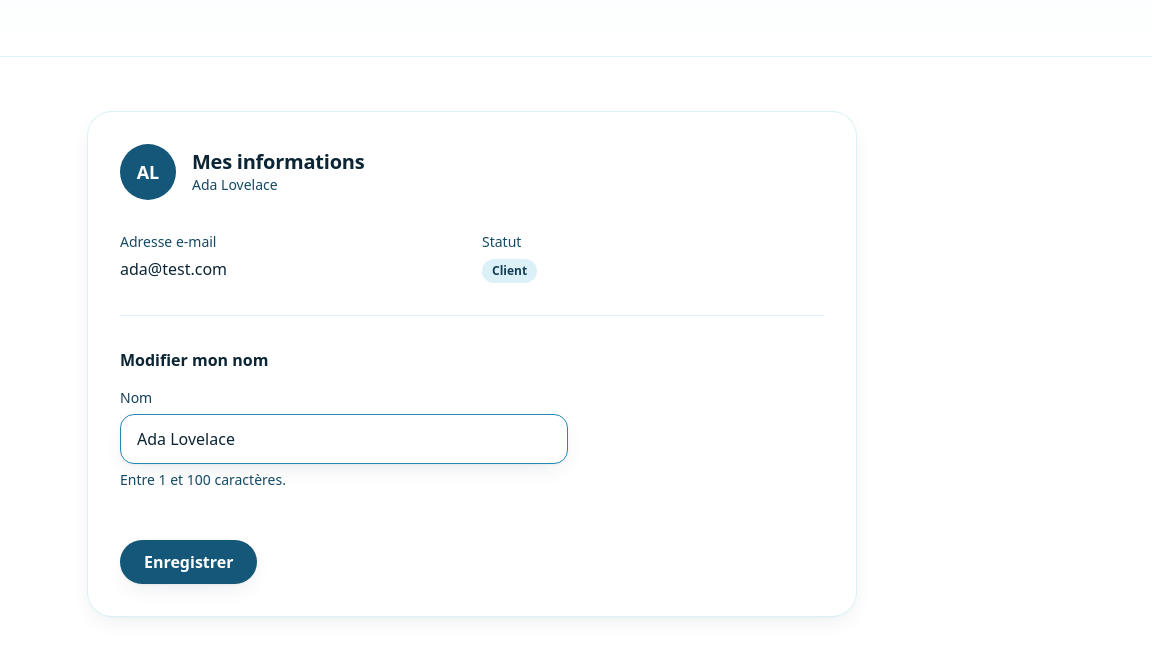
Scenario: ProfileComponent — informations › affiche l’erreur du service sans perdre la saisie
(page scrolled)
Replace the text in the field labelled "Nom" with "Nouveau nom" at [344, 439], box [120,414,568,464]
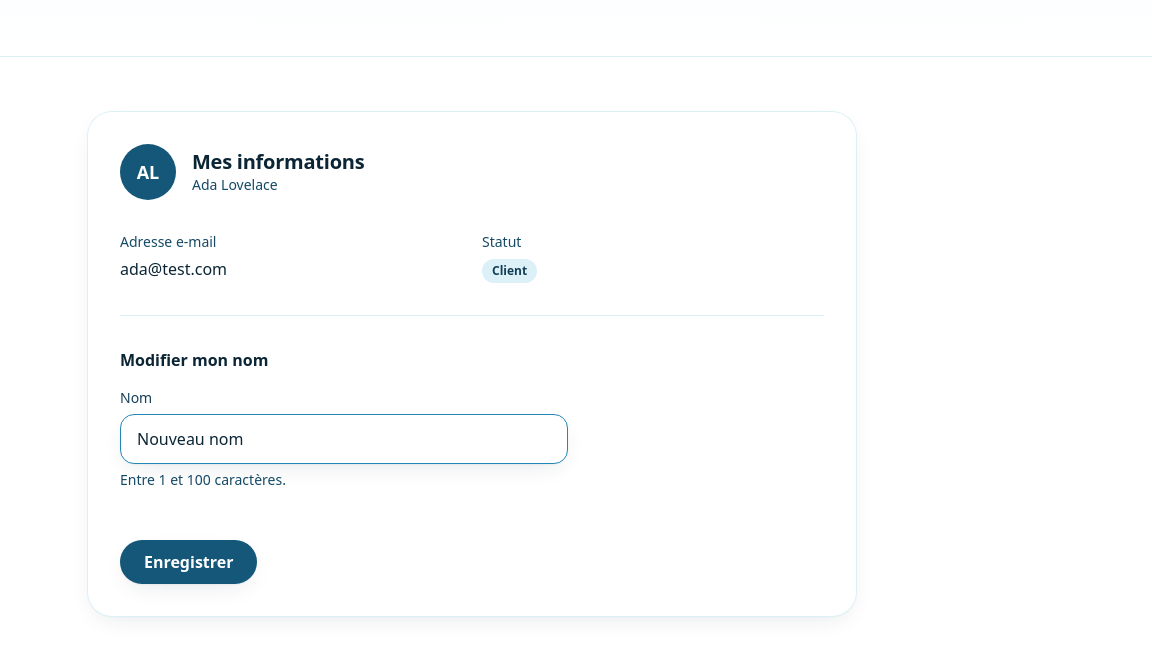
Submit the form, box [120,315,824,584]
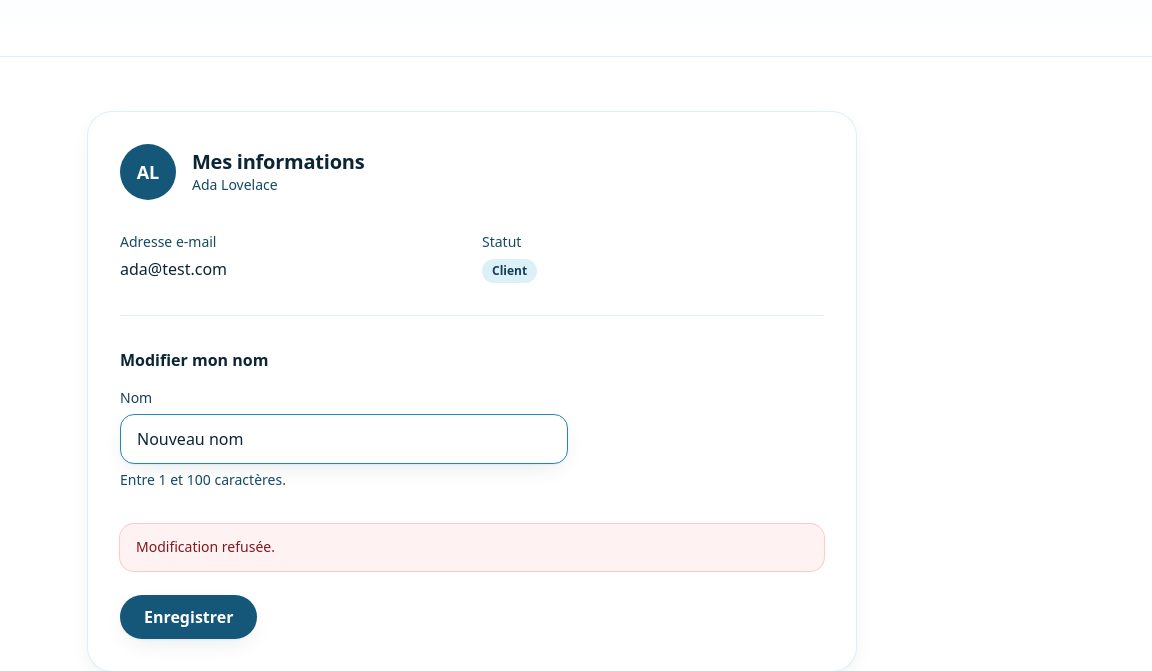
Expected: the message "Modification refusée." is shown, [120,524,824,571]
